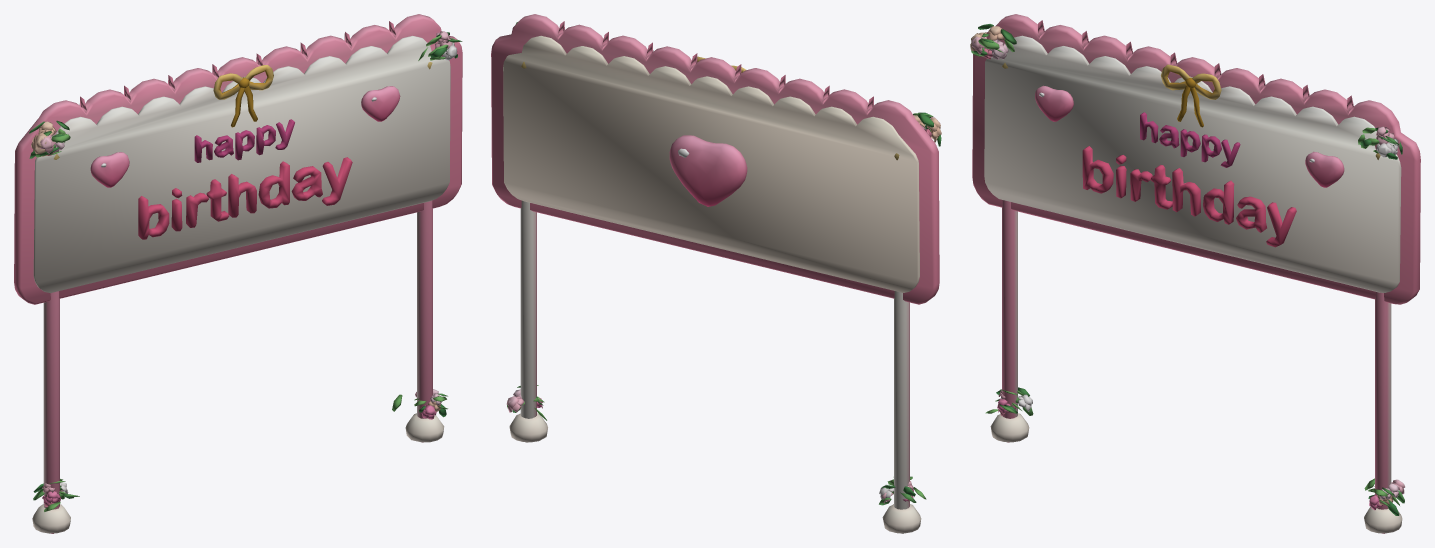
Rendered from prp_anniv_sign_bday.glb.
3 views of the same model, side by side, from view 1: azimuth 30°, elevation 25°; view 2: azimuth 150°, elevation 25°; view 3: azimuth 330°, elevation 25° (orthographic).
Visible parts, largest first — view 1: INST_prp_anniv_sign_bday_sign_bday; view 2: INST_prp_anniv_sign_bday_sign_bday; view 3: INST_prp_anniv_sign_bday_sign_bday.
Part boxes in pixels (x1,y1,x2,y2): INST_prp_anniv_sign_bday_sign_bday: (14,14,462,533); INST_prp_anniv_sign_bday_sign_bday: (491,14,941,533); INST_prp_anniv_sign_bday_sign_bday: (970,14,1420,533).
Size of the model in its own units: 4.77 by 4.38 by 0.6177.
